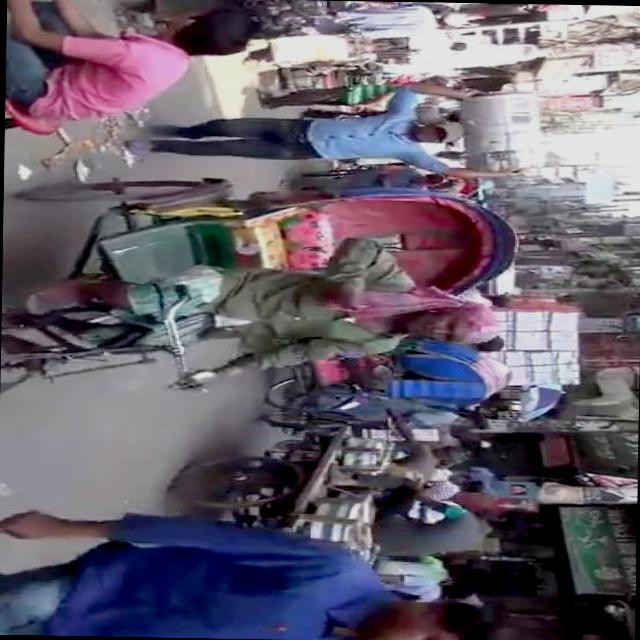motorcycle: (2, 172, 527, 412), (172, 410, 398, 572), (267, 334, 515, 416), (298, 165, 480, 198)
